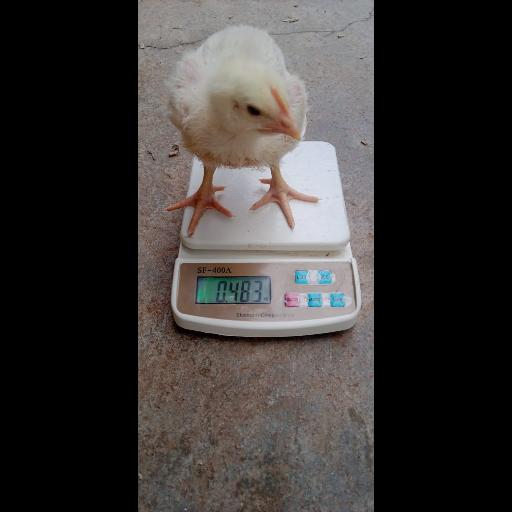chick: (163, 25, 317, 239)
